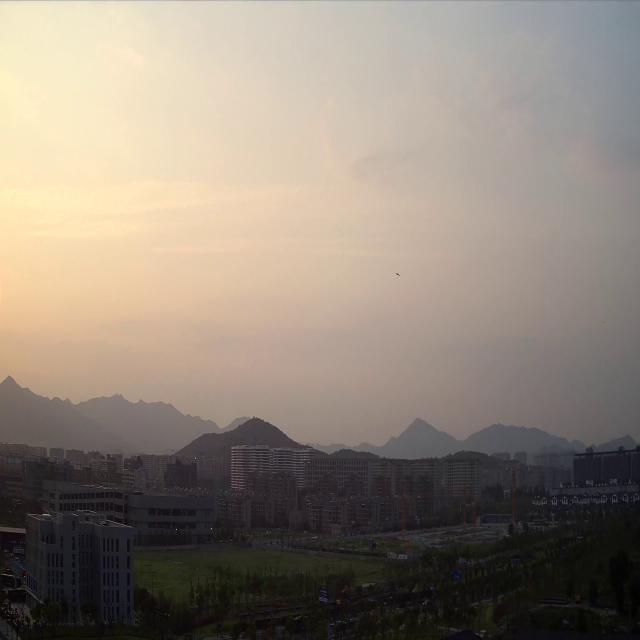drone: (421, 598, 434, 607)
